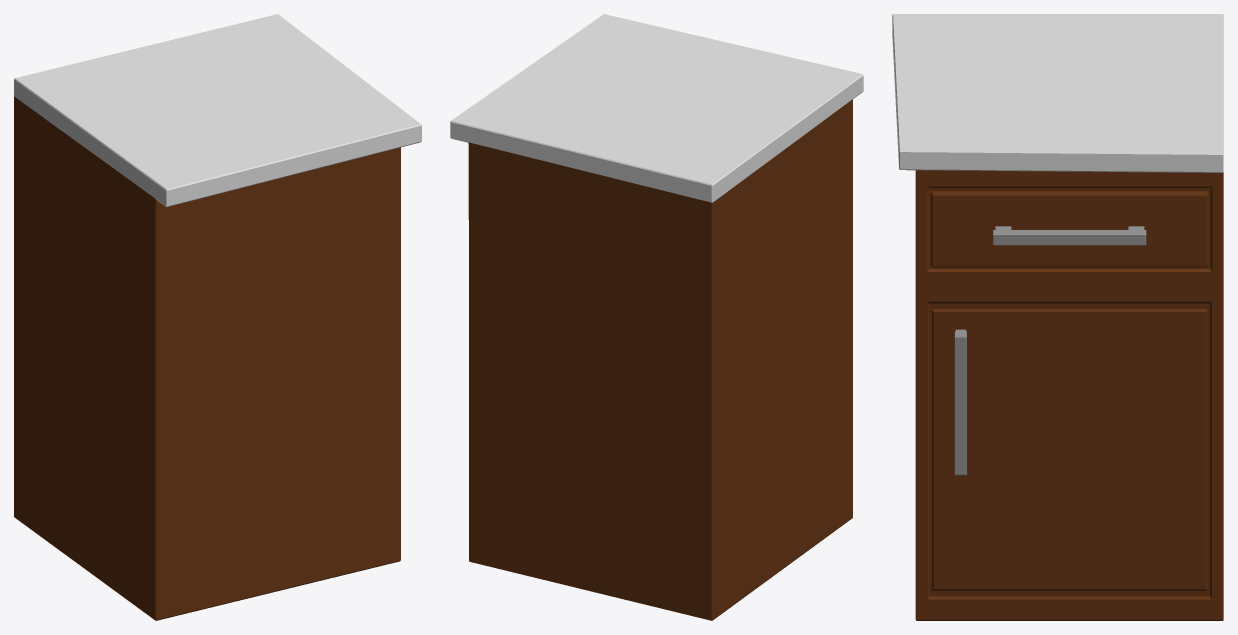
The model's file is CornerCabinet.fbx.
The picture shows the model from 3 angles, left to right: view 1: azimuth 30°, elevation 25°; view 2: azimuth 150°, elevation 25°; view 3: azimuth 270°, elevation 25°; orthographic projection. The views are drawn at different scales.
Visible parts, largest first — view 1: Fridge.006; view 2: Fridge.006; view 3: Fridge.006.
Part boxes in pixels (x1,y1,x2,y2): Fridge.006: (14, 14, 421, 620); Fridge.006: (450, 14, 863, 620); Fridge.006: (892, 14, 1223, 620).
Size of the model in its own units: 151 by 242 by 151.
